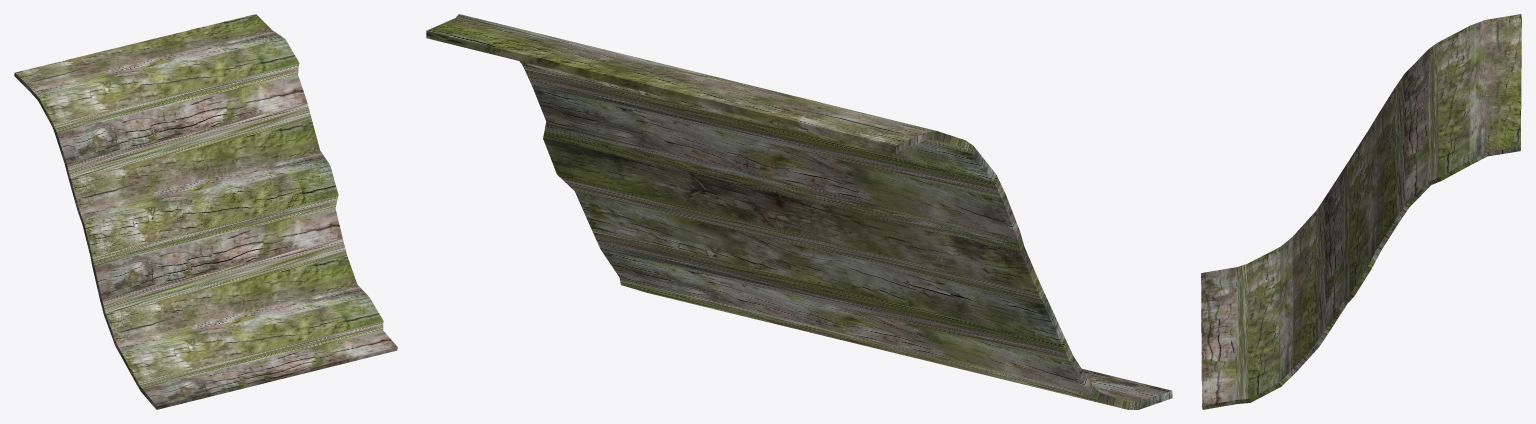
Rendered from RAMP.fbx.
3 views of the same model, side by side, from view 1: azimuth 30°, elevation 25°; view 2: azimuth 150°, elevation 25°; view 3: azimuth 270°, elevation 25° (orthographic). The views are drawn at different scales.
Visible parts, largest first — view 1: ramp; view 2: ramp; view 3: ramp.
Boxes of the visible parts, x1=… form: ramp: x1=14, y1=14, x2=397, y2=409; ramp: x1=426, y1=14, x2=1172, y2=409; ramp: x1=1201, y1=14, x2=1521, y2=409.
Size of the model in its own units: 205 by 185 by 204.
